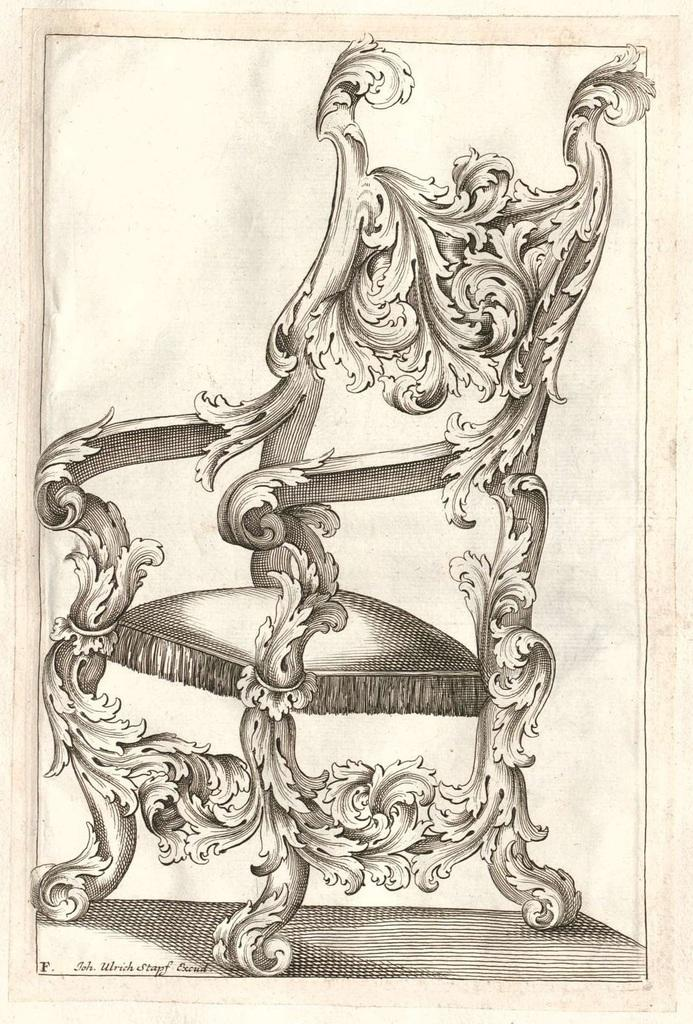Chair: (32, 32, 656, 970)
